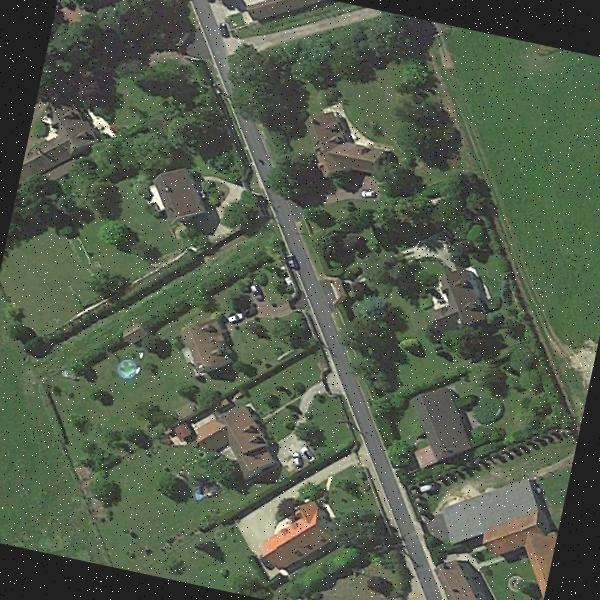Buildings: (444, 480, 560, 564), (305, 102, 390, 184), (194, 403, 284, 477), (409, 382, 478, 472), (22, 102, 96, 178), (430, 258, 501, 336), (423, 559, 539, 600), (263, 496, 328, 568), (183, 318, 234, 368), (149, 170, 204, 216)
